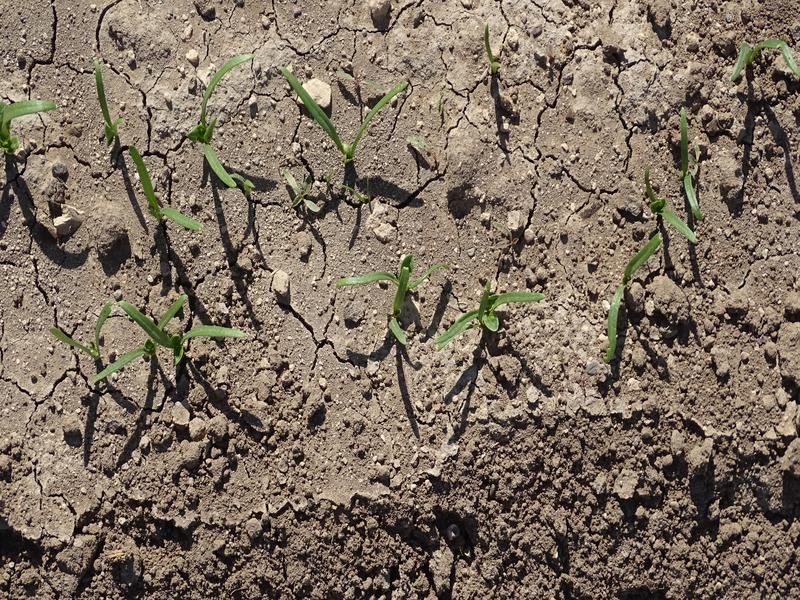Espinaca: (341, 252, 540, 347), (95, 70, 209, 230), (47, 297, 242, 377), (275, 63, 406, 153), (597, 228, 667, 363), (198, 52, 258, 187), (645, 113, 709, 226), (734, 34, 798, 88), (1, 91, 59, 141), (480, 22, 505, 75)
